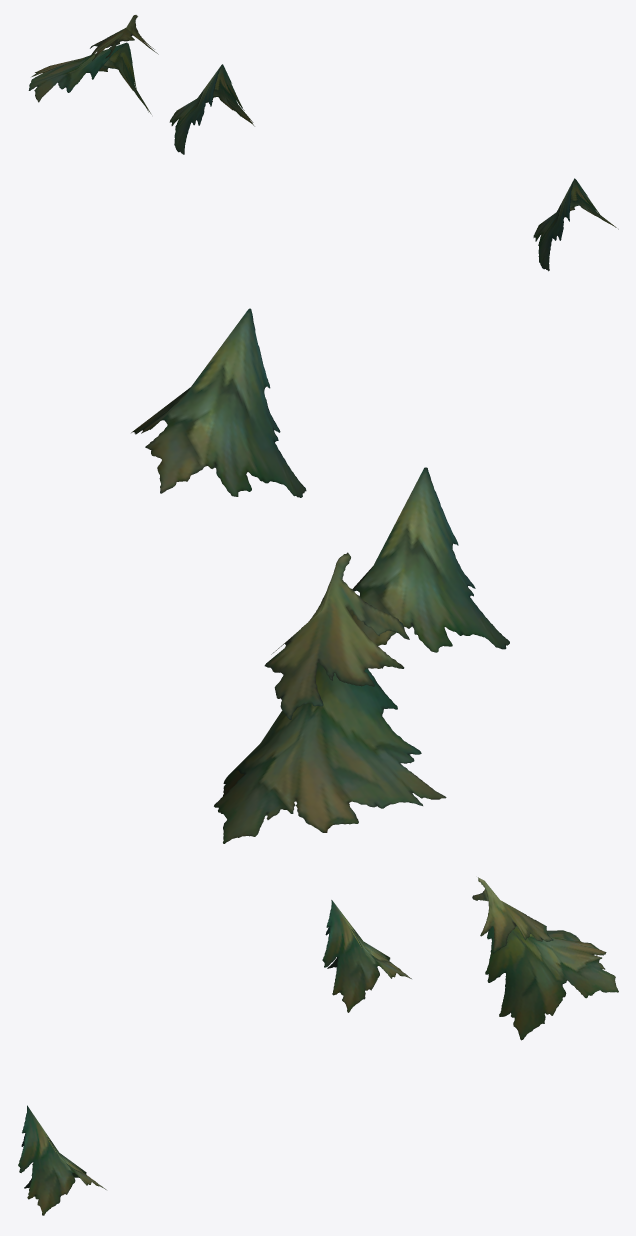
The model's file is MapObject_139.FBX.
3 renders of one model, top to bottom at view 1: azimuth 30°, elevation 25°; view 2: azimuth 150°, elevation 25°; view 3: azimuth 270°, elevation 25°, orthographic. The views are drawn at different scales.
Visible parts, largest first — view 1: polySurfaceMapGeoMesh290; view 2: polySurfaceMapGeoMesh290; view 3: polySurfaceMapGeoMesh290.
Part boxes in pixels (<box>): polySurfaceMapGeoMesh290: <box>28,15,618,271</box>; polySurfaceMapGeoMesh290: <box>131,308,509,843</box>; polySurfaceMapGeoMesh290: <box>18,877,618,1215</box>.
Size of the model in its own units: 550 by 236 by 664.
